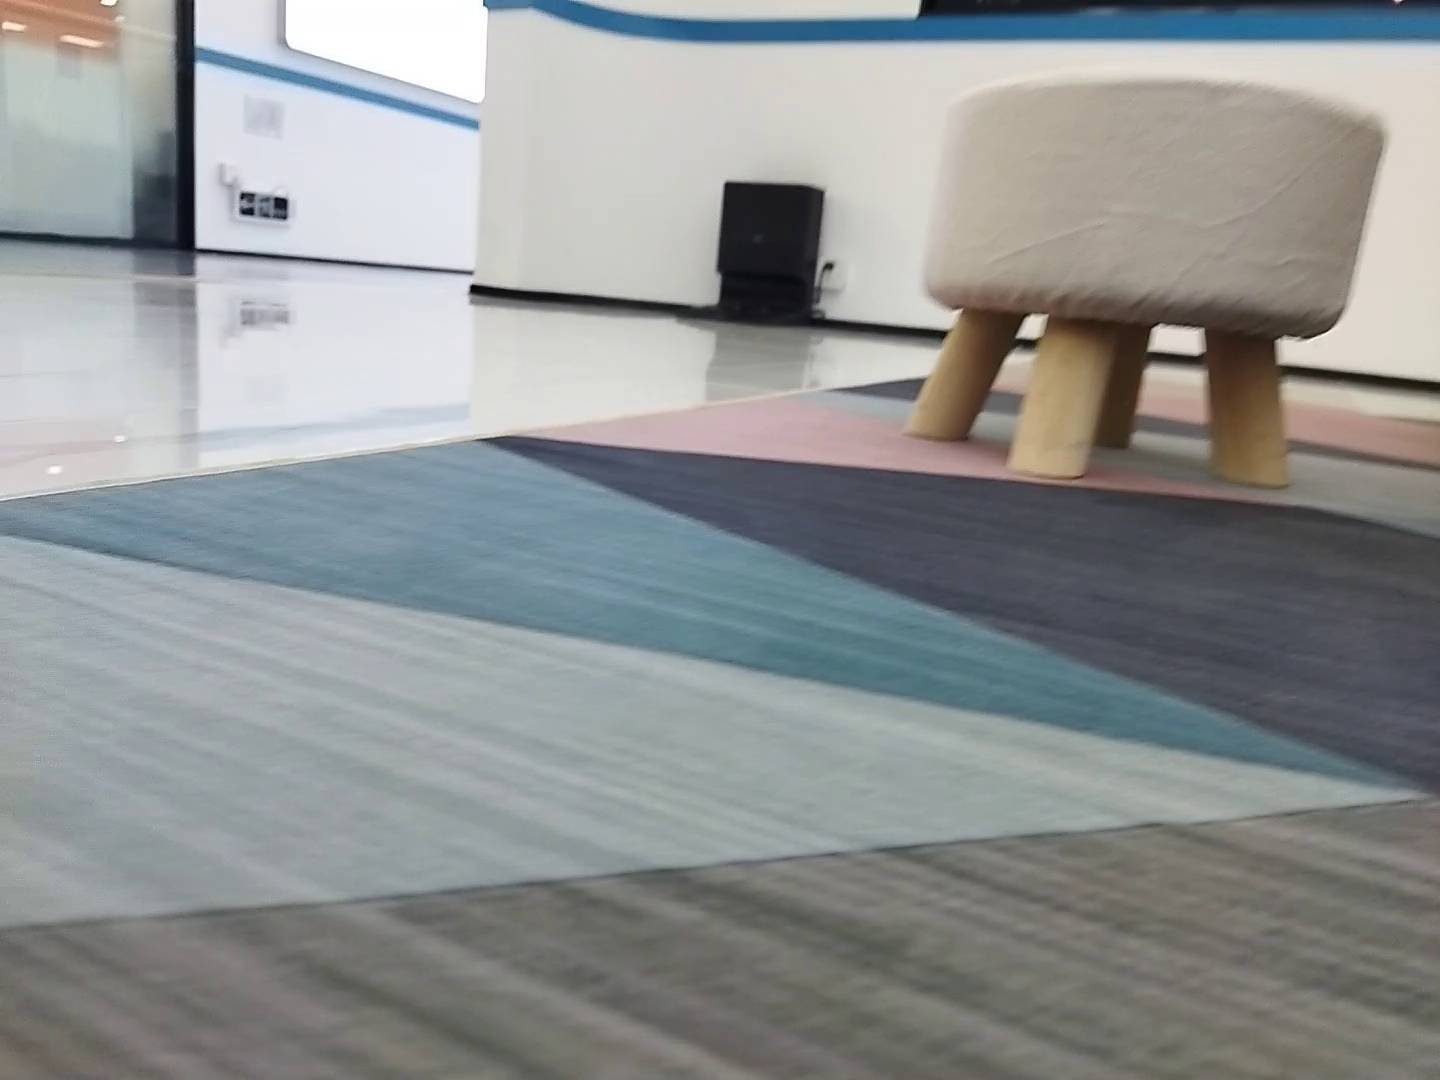dust collecting barrel: (672, 180, 828, 326)
